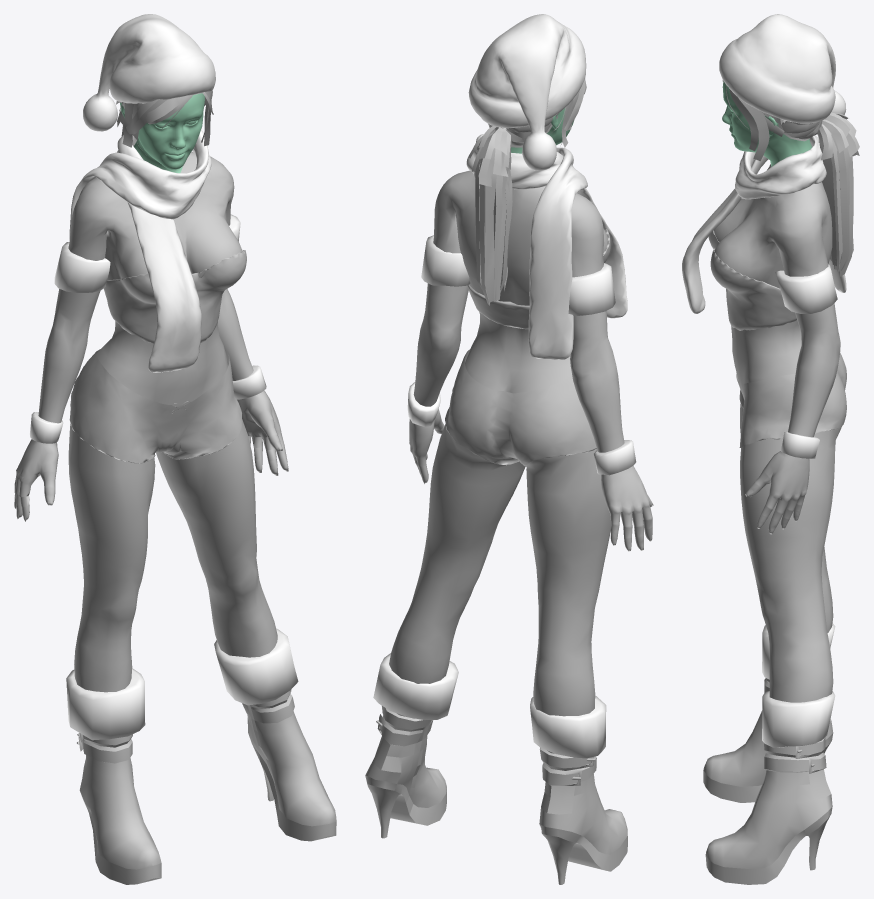
The model's file is assistant_xmas_outfit_flirty.obj.
3 renders of one model, left to right at view 1: azimuth 30°, elevation 25°; view 2: azimuth 150°, elevation 25°; view 3: azimuth 270°, elevation 25°, orthographic. The views are drawn at different scales.
Visible parts, largest first — view 1: 22_+body.1nPart.part.002_1.0_0_0.000, boots_1156DDE4.001, 5677568D, 3FBBEF0A, C9E02854, 22_+body.1nPart.part.002_1.0_0_0.002_22_+body.1nPart.part.002_1., E4F123C, E597BBC0.004, E597BBC0.005, 22_+body.1nPart.part.005_1.0_0_0.000, hair_9DE933C4.001, E597BBC0.002 (+2 smaller); view 2: 22_+body.1nPart.part.002_1.0_0_0.000, boots_1156DDE4.001, C9E02854, 5677568D, 3FBBEF0A, 22_+body.1nPart.part.002_1.0_0_0.002_22_+body.1nPart.part.002_1., hair_9DE933C4.001, E597BBC0.005, E597BBC0.004, E597BBC0.002, E597BBC0.003, E4F123C (+2 smaller); view 3: 22_+body.1nPart.part.002_1.0_0_0.000, boots_1156DDE4.001, C9E02854, hair_9DE933C4.001, 5677568D, 22_+body.1nPart.part.002_1.0_0_0.002_22_+body.1nPart.part.002_1., 3FBBEF0A, E4F123C, E597BBC0.005, E597BBC0.003, 22_+body.1nPart.part.005_1.0_0_0.000, E597BBC0.001 (+1 smaller).
Boxes of the visible parts, bbox=[...] form: 22_+body.1nPart.part.002_1.0_0_0.000: bbox=[14, 152, 288, 692]; boots_1156DDE4.001: bbox=[77, 690, 336, 884]; 5677568D: bbox=[69, 129, 211, 372]; 3FBBEF0A: bbox=[69, 349, 242, 463]; C9E02854: bbox=[83, 14, 215, 131]; 22_+body.1nPart.part.002_1.0_0_0.002_22_+body.1nPart.part.002_1.: bbox=[38, 288, 253, 443]; E4F123C: bbox=[103, 250, 246, 343]; E597BBC0.004: bbox=[66, 668, 145, 740]; E597BBC0.005: bbox=[214, 628, 298, 705]; 22_+body.1nPart.part.005_1.0_0_0.000: bbox=[120, 93, 204, 173]; hair_9DE933C4.001: bbox=[116, 90, 213, 148]; E597BBC0.002: bbox=[54, 242, 110, 292]; 22_+body.1nPart.part.002_1.0_0_0.000: bbox=[389, 170, 653, 716]; boots_1156DDE4.001: bbox=[365, 706, 627, 884]; C9E02854: bbox=[468, 14, 586, 170]; 5677568D: bbox=[466, 134, 627, 359]; 3FBBEF0A: bbox=[445, 349, 596, 467]; 22_+body.1nPart.part.002_1.0_0_0.002_22_+body.1nPart.part.002_1.: bbox=[413, 283, 624, 452]; hair_9DE933C4.001: bbox=[468, 78, 586, 305]; E597BBC0.005: bbox=[373, 653, 458, 719]; E597BBC0.004: bbox=[530, 696, 606, 758]; E597BBC0.002: bbox=[568, 263, 615, 315]; E597BBC0.003: bbox=[421, 235, 470, 286]; E4F123C: bbox=[467, 229, 610, 329]; 22_+body.1nPart.part.002_1.0_0_0.000: bbox=[714, 164, 841, 702]; boots_1156DDE4.001: bbox=[703, 678, 833, 884]; C9E02854: bbox=[719, 14, 846, 123]; hair_9DE933C4.001: bbox=[722, 80, 859, 276]; 5677568D: bbox=[682, 135, 846, 313]; 22_+body.1nPart.part.002_1.0_0_0.002_22_+body.1nPart.part.002_1.: bbox=[788, 303, 840, 437]; 3FBBEF0A: bbox=[736, 352, 846, 447]; E4F123C: bbox=[708, 230, 796, 330]; E597BBC0.005: bbox=[762, 691, 835, 747]; E597BBC0.003: bbox=[775, 264, 837, 313]; 22_+body.1nPart.part.005_1.0_0_0.000: bbox=[722, 81, 812, 166]; E597BBC0.001: bbox=[780, 432, 819, 458].
Size of the model in its own units: 0.6456 by 1.82 by 0.3696.
